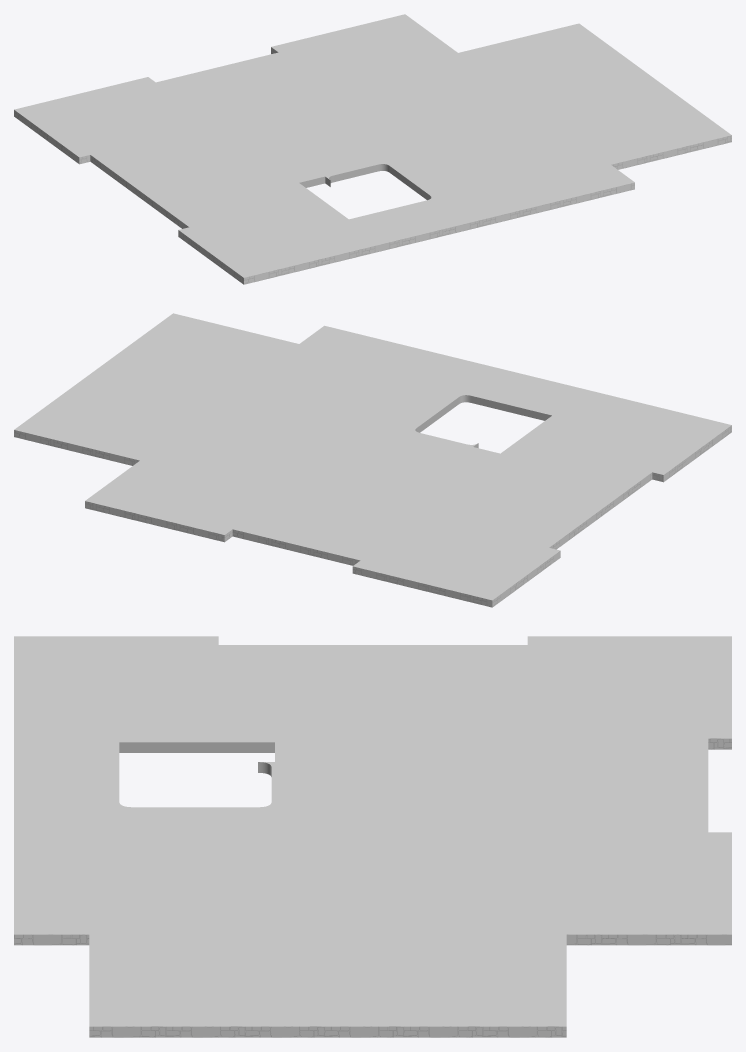
Rendered from Storey__SecondFloor__ProposedFloors__MeshModel__.glb.
3 views of the same model, one above another, from view 1: azimuth 30°, elevation 25°; view 2: azimuth 150°, elevation 25°; view 3: azimuth 270°, elevation 25° (orthographic). The views are drawn at different scales.
Parts seen in each view (by area): view 1: 22__ProposedBuilding__Floors::Default, 22__ProposedBuilding__Floors::MAT000E__Masonry__StoneworkPat; view 2: 22__ProposedBuilding__Floors::Default, 22__ProposedBuilding__Floors::MAT000E__Masonry__StoneworkPat; view 3: 22__ProposedBuilding__Floors::Default, 22__ProposedBuilding__Floors::MAT000E__Masonry__StoneworkPat.
Part boxes in pixels (box(x1,y1,x2,y2)): 22__ProposedBuilding__Floors::Default: box(14, 14, 731, 277); 22__ProposedBuilding__Floors::MAT000E__Masonry__StoneworkPat: box(14, 47, 731, 284); 22__ProposedBuilding__Floors::Default: box(14, 313, 731, 600); 22__ProposedBuilding__Floors::MAT000E__Masonry__StoneworkPat: box(14, 425, 731, 607); 22__ProposedBuilding__Floors::Default: box(14, 636, 731, 1026); 22__ProposedBuilding__Floors::MAT000E__Masonry__StoneworkPat: box(14, 738, 731, 1037).
Size of the model in its own units: 23.28 by 0.6 by 18.1.
Materials: 2 (1 with a texture image).
